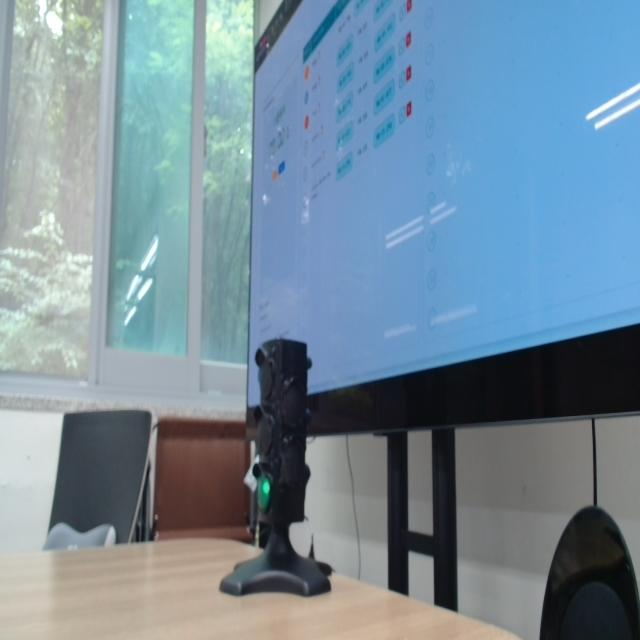green_light: (258, 476, 271, 512)
